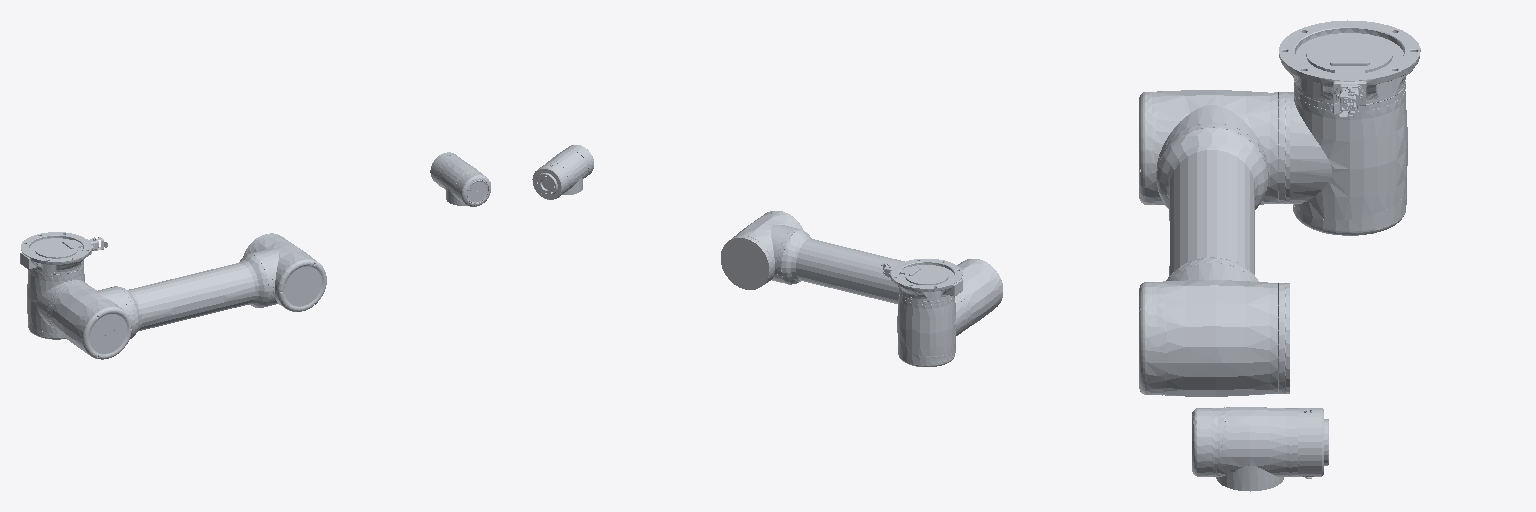
URDF robot description (jaka_zu12_real):
<?xml version="1.0" encoding="utf-8"?>
<robot name="jaka_zu12_real">
  <!-- JAKA zu12 — 真机 CAD（厂商官网 STEP，build_vendor_urdf.py 生成，coord=y_up_mm）。几何为真实外形，运动学（轴/限位）复用程序化 URDF。 -->
  <link name="base_link">
    <visual>
      <origin xyz="0 0 0" rpy="0 0 0"/>
      <geometry><mesh filename="meshes_real/base_link.stl"/></geometry>
      <material name="base_link_m"><color rgba="0.80 0.82 0.85 1"/></material>
    </visual>
    <collision>
      <origin xyz="0 0 0" rpy="0 0 0"/>
      <geometry><mesh filename="meshes_real/base_link.stl"/></geometry>
    </collision>
  </link>
  <link name="link_1">
    <visual>
      <origin xyz="0 0 0" rpy="0 0 0"/>
      <geometry><mesh filename="meshes_real/link_1.stl"/></geometry>
      <material name="link_1_m"><color rgba="0.80 0.82 0.85 1"/></material>
    </visual>
    <collision>
      <origin xyz="0 0 0" rpy="0 0 0"/>
      <geometry><mesh filename="meshes_real/link_1.stl"/></geometry>
    </collision>
  </link>
  <link name="link_2">
    <visual>
      <origin xyz="0 0 0" rpy="0 0 0"/>
      <geometry><mesh filename="meshes_real/link_2.stl"/></geometry>
      <material name="link_2_m"><color rgba="0.80 0.82 0.85 1"/></material>
    </visual>
    <collision>
      <origin xyz="0 0 0" rpy="0 0 0"/>
      <geometry><mesh filename="meshes_real/link_2.stl"/></geometry>
    </collision>
  </link>
  <link name="link_3">
    <visual>
      <origin xyz="0 0 0" rpy="0 0 0"/>
      <geometry><mesh filename="meshes_real/link_3.stl"/></geometry>
      <material name="link_3_m"><color rgba="0.80 0.82 0.85 1"/></material>
    </visual>
    <collision>
      <origin xyz="0 0 0" rpy="0 0 0"/>
      <geometry><mesh filename="meshes_real/link_3.stl"/></geometry>
    </collision>
  </link>
  <link name="link_4">
    <visual>
      <origin xyz="0 0 0" rpy="0 0 0"/>
      <geometry><mesh filename="meshes_real/link_4.stl"/></geometry>
      <material name="link_4_m"><color rgba="0.80 0.82 0.85 1"/></material>
    </visual>
    <collision>
      <origin xyz="0 0 0" rpy="0 0 0"/>
      <geometry><mesh filename="meshes_real/link_4.stl"/></geometry>
    </collision>
  </link>
  <link name="link_5">
    <visual>
      <origin xyz="0 0 0" rpy="0 0 0"/>
      <geometry><mesh filename="meshes_real/link_5.stl"/></geometry>
      <material name="link_5_m"><color rgba="0.80 0.82 0.85 1"/></material>
    </visual>
    <collision>
      <origin xyz="0 0 0" rpy="0 0 0"/>
      <geometry><mesh filename="meshes_real/link_5.stl"/></geometry>
    </collision>
  </link>
  <link name="tool0">
    <visual>
      <origin xyz="0 0 0" rpy="0 0 0"/>
      <geometry><mesh filename="meshes_real/tool0.stl"/></geometry>
      <material name="tool0_m"><color rgba="0.80 0.82 0.85 1"/></material>
    </visual>
    <collision>
      <origin xyz="0 0 0" rpy="0 0 0"/>
      <geometry><mesh filename="meshes_real/tool0.stl"/></geometry>
    </collision>
  </link>
  <link name="tcp">
    <visual>
      <origin xyz="0 0 0" rpy="0 0 0"/>
      <geometry><sphere radius="0.008"/></geometry>
      <material name="tcp_m"><color rgba="0.15 0.85 0.55 1"/></material>
    </visual>
  </link>
  <joint name="joint_1" type="revolute">
    <parent link="base_link"/>
    <child link="link_1"/>
    <origin xyz="0.0739831 0.0015811 -0.04" rpy="0 0 0"/>
    <axis xyz="0 0 1"/>
    <limit lower="-6.28318" upper="6.28318" effort="112" velocity="2.0944"/>
  </joint>
  <joint name="joint_2" type="revolute">
    <parent link="link_1"/>
    <child link="link_2"/>
    <origin xyz="-0.0755642 -0.0805811 -0.176633" rpy="0 0 0"/>
    <axis xyz="0 1 0"/>
    <limit lower="-1.48353" upper="4.62512" effort="112" velocity="2.0944"/>
  </joint>
  <joint name="joint_3" type="revolute">
    <parent link="link_2"/>
    <child link="link_3"/>
    <origin xyz="0.522747 0.000147257 0.0723065" rpy="0 0 0"/>
    <axis xyz="0 1 0"/>
    <limit lower="-3.05433" upper="3.05433" effort="112" velocity="3.14159"/>
  </joint>
  <joint name="joint_4" type="revolute">
    <parent link="link_3"/>
    <child link="link_4"/>
    <origin xyz="0.599834 -0.00214726 0.00167659" rpy="0 0 0"/>
    <axis xyz="0 0 1"/>
    <limit lower="-1.48353" upper="4.62512" effort="112" velocity="3.14159"/>
  </joint>
  <joint name="joint_5" type="revolute">
    <parent link="link_4"/>
    <child link="link_5"/>
    <origin xyz="0.0616345 -0.00795676 0.0645" rpy="0 0 0"/>
    <axis xyz="0 1 0"/>
    <limit lower="-6.28318" upper="6.28318" effort="112" velocity="3.14159"/>
  </joint>
  <joint name="joint_6" type="revolute">
    <parent link="link_5"/>
    <child link="tool0"/>
    <origin xyz="-0.0131587 0.0219568 0.00509742" rpy="0 0 0"/>
    <axis xyz="0 0 1"/>
    <limit lower="-6.28318" upper="6.28318" effort="112" velocity="3.14159"/>
  </joint>
  <joint name="tcp_joint" type="fixed">
    <parent link="tool0"/>
    <child link="tcp"/>
    <origin xyz="0 0 0.07962" rpy="0 0 0"/>
  </joint>
</robot>

--- Facts derived from the render (not from the file) ---
3 views of the same robot in one strip: view 1: azimuth 30°, elevation 25°; view 2: azimuth 150°, elevation 25°; view 3: azimuth 270°, elevation 25° (orthographic).
Robot: jaka_zu12_real — 8 links, 7 joints (6 revolute, 1 fixed); root link base_link; default pose: all joints at 0.
Visible links, largest first — view 1: link_2, base_link, link_1, link_5; view 2: link_2, link_1, base_link, link_5, tool0; view 3: link_2, link_1, base_link, link_5, tool0.
Boxes of the visible links, box(x1,y1,x2,y2) form: link_2: box(47, 233, 326, 359); base_link: box(20, 232, 107, 272); link_1: box(27, 263, 86, 339); link_5: box(436, 157, 490, 206); link_2: box(721, 211, 1002, 333); link_1: box(897, 290, 965, 366); base_link: box(881, 259, 962, 298); link_5: box(546, 145, 593, 194); tool0: box(532, 163, 567, 199); link_2: box(1139, 90, 1289, 396); link_1: box(1290, 81, 1407, 235); base_link: box(1279, 20, 1420, 117); link_5: box(1192, 407, 1298, 491); tool0: box(1299, 408, 1328, 478).
Size in the robot's own frame: 1.31 by 0.372 by 0.2585 metres.
Meshes: 7 distinct files referenced, 5 mesh visuals loaded (5 binary STL); not drawn: 2 (reference not matched to a file when rendering).
